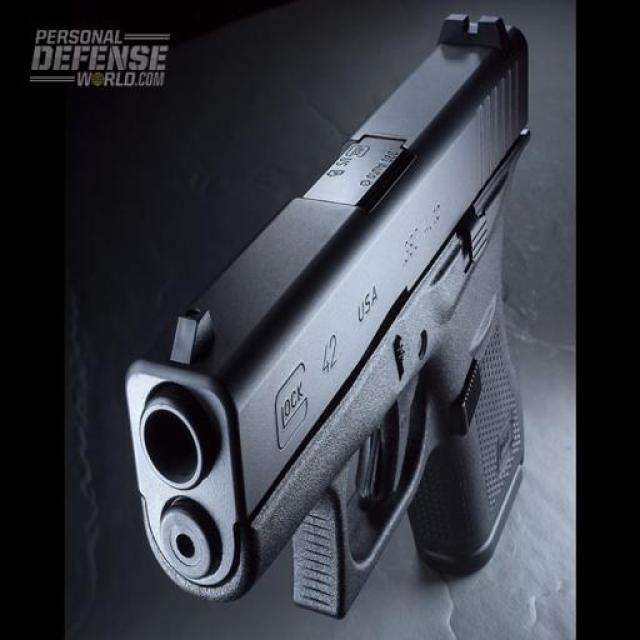pistol: (131, 14, 532, 618)
